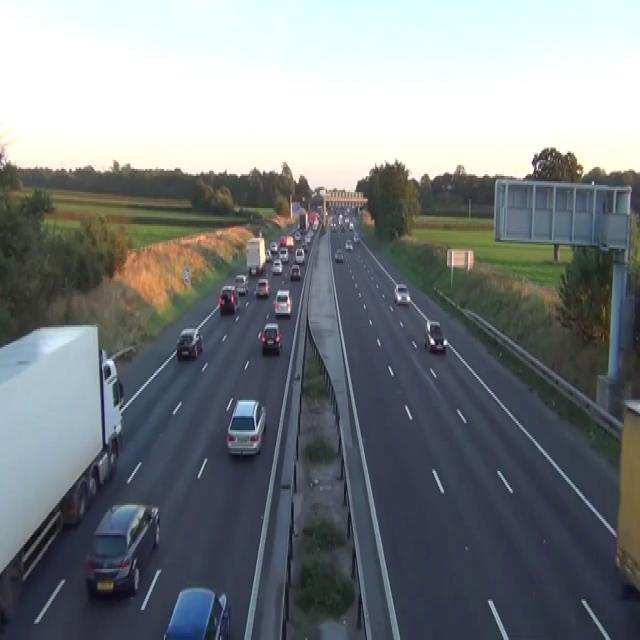Car: (85, 501, 160, 599), (163, 587, 230, 638), (226, 398, 266, 457), (176, 327, 203, 359), (423, 320, 447, 354), (261, 322, 281, 354), (218, 284, 238, 313), (273, 288, 292, 316), (393, 283, 410, 304), (254, 277, 270, 297), (235, 274, 248, 295), (289, 263, 301, 281), (271, 258, 282, 274), (279, 245, 288, 263), (295, 247, 304, 263), (334, 247, 343, 261), (269, 240, 278, 252), (345, 238, 353, 251), (265, 247, 272, 261), (279, 235, 286, 245), (249, 265, 256, 275), (294, 229, 300, 240), (302, 240, 308, 251), (446, 182, 454, 190), (299, 224, 306, 233), (353, 233, 359, 242), (349, 220, 354, 230), (331, 222, 336, 231), (340, 222, 345, 231), (321, 224, 326, 233), (306, 233, 311, 242), (344, 217, 349, 224), (258, 228, 262, 236)
Truck: (0, 322, 124, 622), (614, 396, 639, 594), (245, 234, 265, 276), (299, 208, 307, 233)
